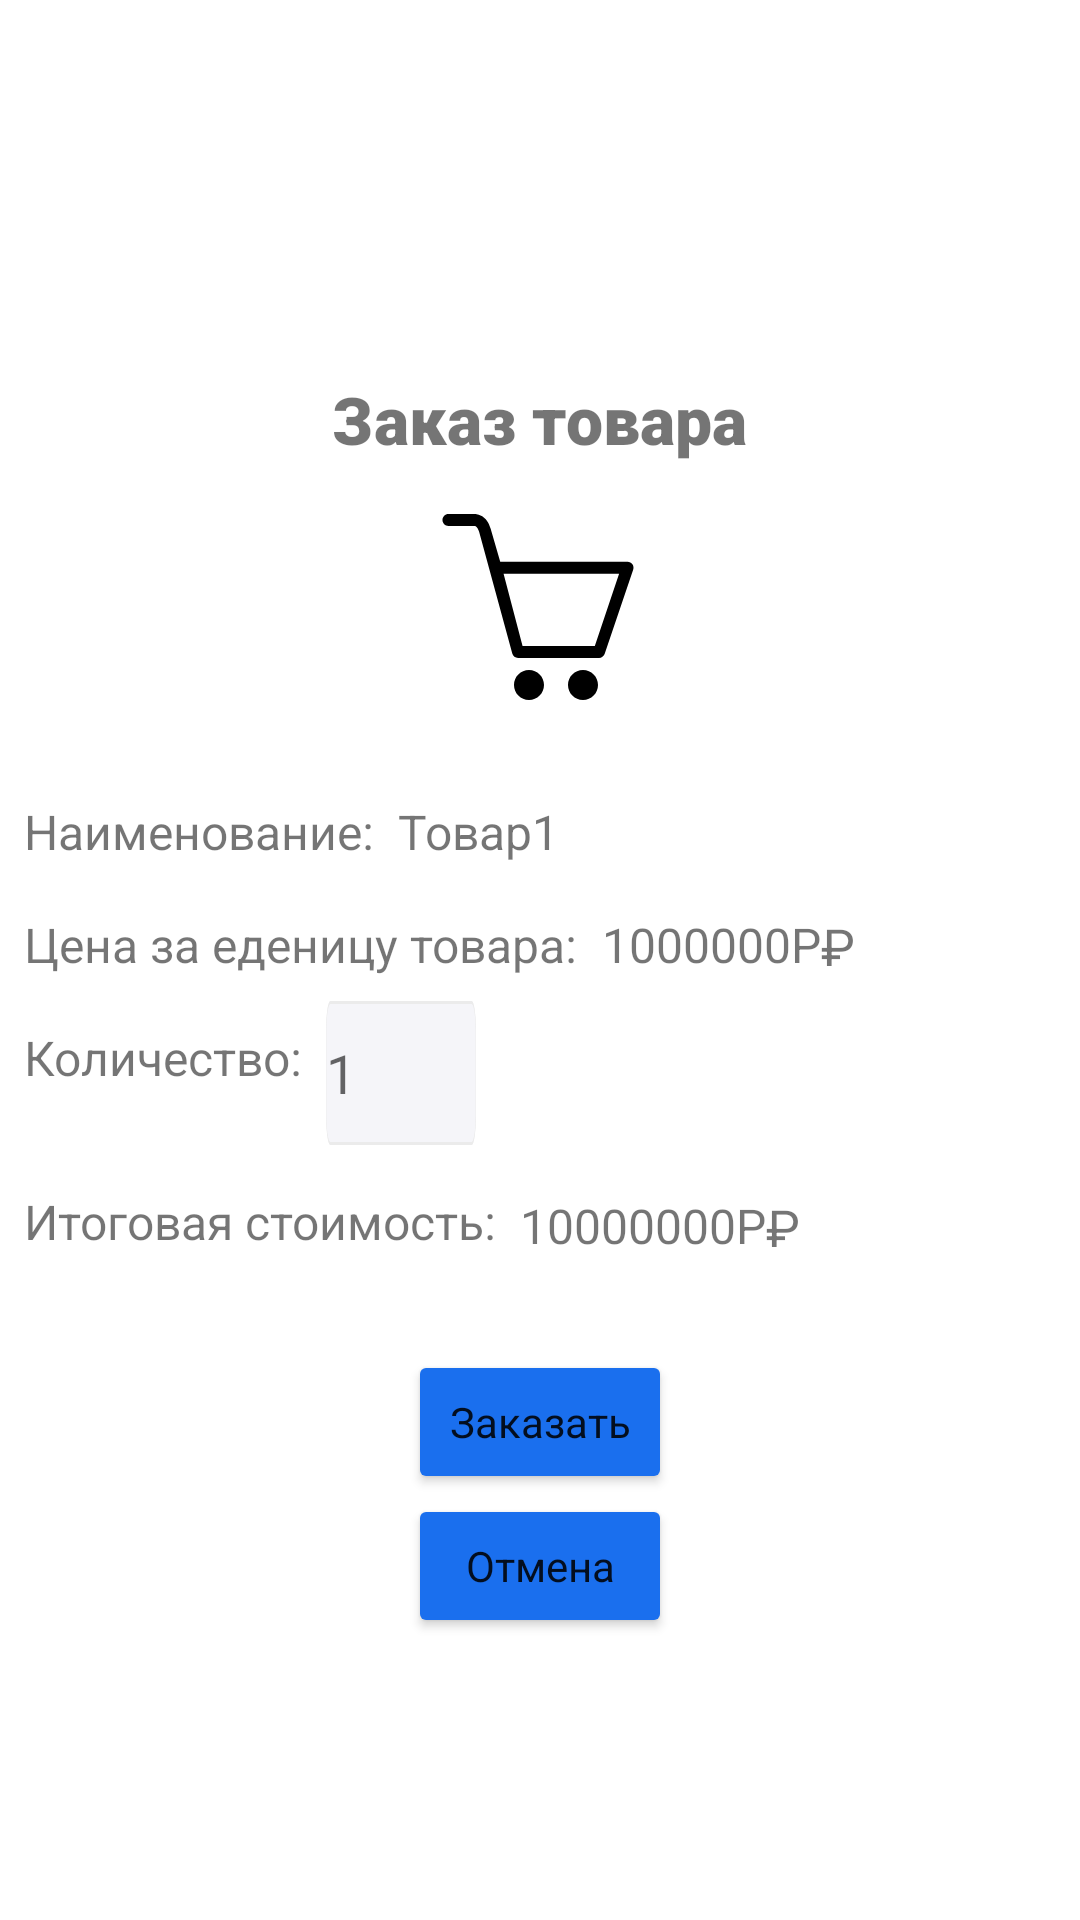

Where icons sit on this 1080×1920 app screen, as (x1, y1, x2, y2):
basket: (442, 514, 634, 700)
